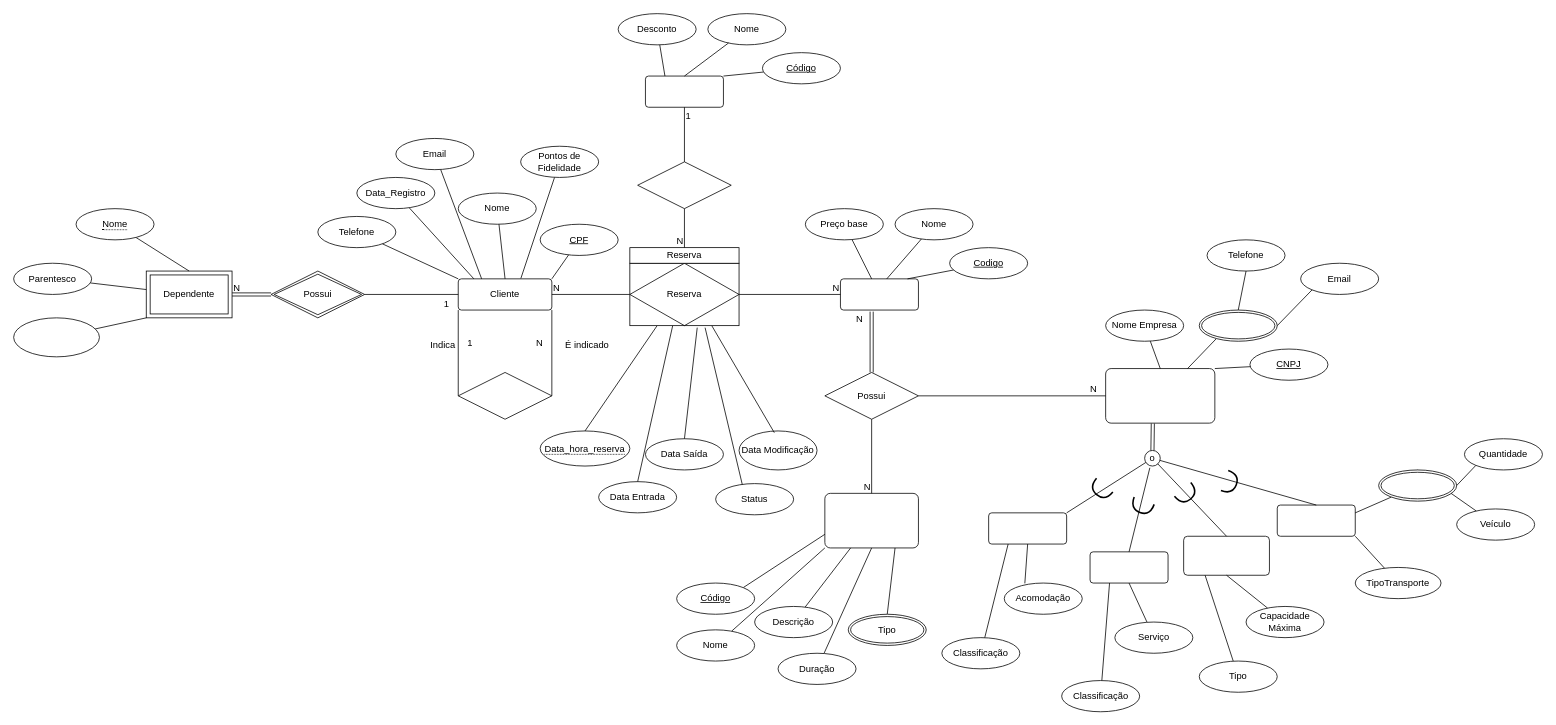
Some shapes in this 1556 by 725 pixel diagram are drawn without their labels. The centre of each missing label's shape, as x and y in pixels:
Alimentação: [1128,567]
Atividade: [871,520]
Contato: [1237,325]
Data_nascimento: [56,337]
Evento: [1226,555]
Fornecedor: [1160,395]
Frota: [1417,485]
Hospedagem: [1027,528]
Indicar: [504,395]
Pacote: [879,294]
Promoção: [684,91]
Tem: [684,185]
Transporte: [1315,520]
